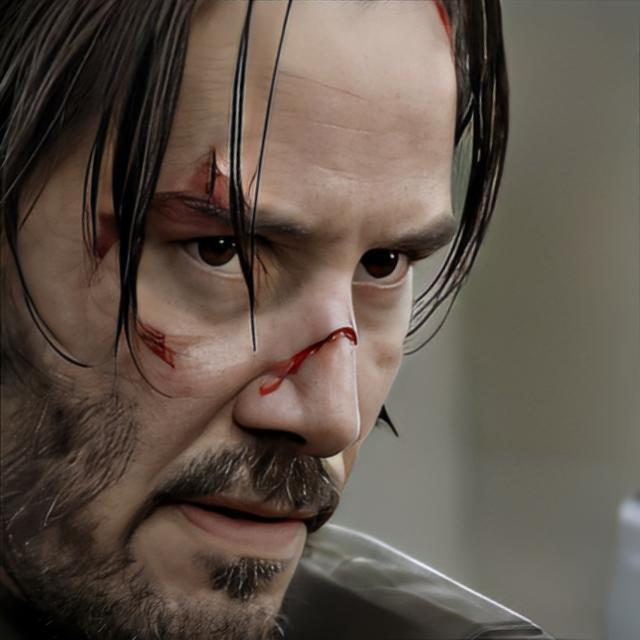anger: (72, 13, 464, 640)
